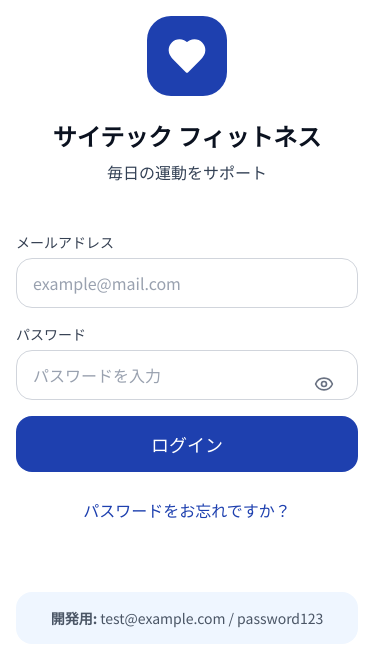
Scenario: U-01 Login › password visibility toggle › should toggle password visibility on click
The width and height of the screenshot is (375, 661).
Click the button named "パスワードを表示" at {"x": 324, "y": 384}, box x1=302 y1=362 x2=346 y2=406
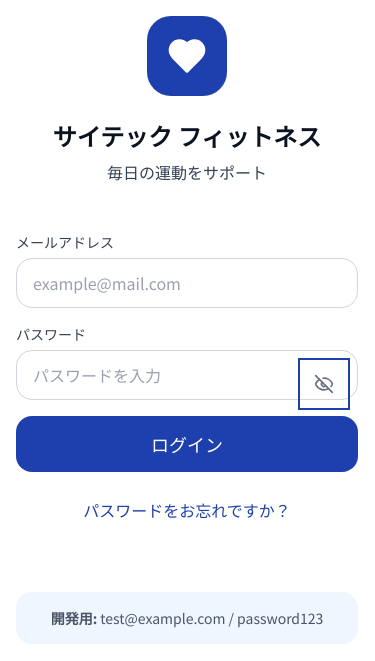
Result: the button named "パスワードを非表示" is shown at x1=302 y1=362 x2=346 y2=406
